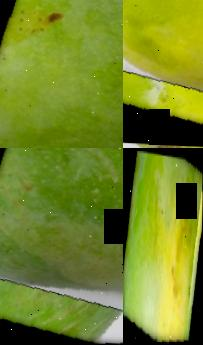PartiallyRipe: (123, 148, 202, 345), (123, 0, 203, 141)
Unripe: (0, 148, 123, 345), (0, 0, 123, 148)
